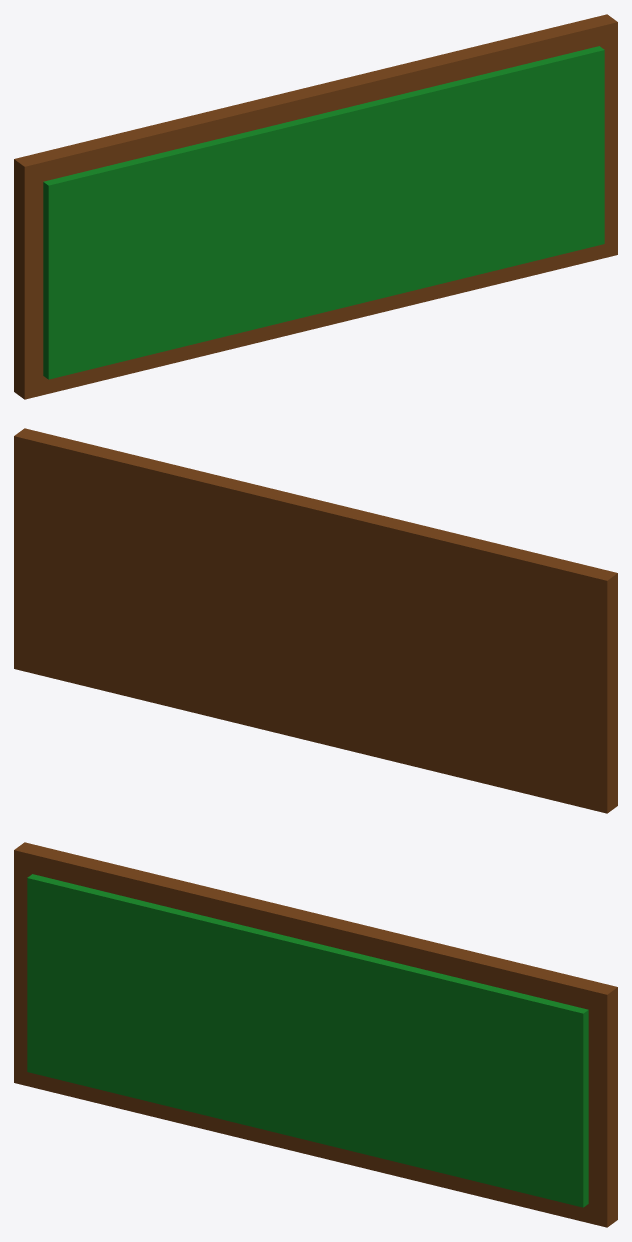
Rendered from MainMenu_Template_Button.fbx.
3 views of the same model, one above another, from view 1: azimuth 30°, elevation 25°; view 2: azimuth 150°, elevation 25°; view 3: azimuth 330°, elevation 25° (orthographic).
Parts seen in each view (by area): view 1: Base, Outline; view 2: Outline; view 3: Base, Outline.
Part boxes in pixels (x1,y1,x2,y2): Base: (43, 46, 604, 379); Outline: (14, 14, 617, 399); Outline: (14, 428, 617, 813); Base: (27, 874, 588, 1207); Outline: (14, 842, 617, 1227).
Size of the model in its own units: 640 by 240 by 30.
